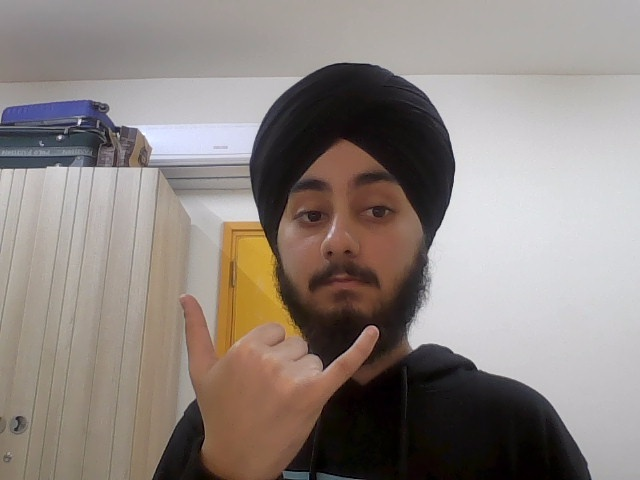Wrong: (175, 289, 387, 478)
